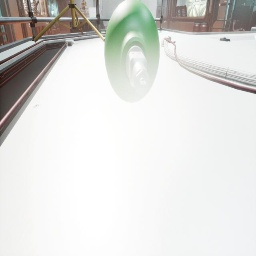0: (104, 0, 160, 103)
EmergencyPhone ,: (60, 13, 62, 17), (99, 0, 100, 4), (99, 1, 99, 2)
NitrogenTank ,: (100, 17, 101, 18)
SafetySwitchPanel ,: (49, 11, 49, 12)
